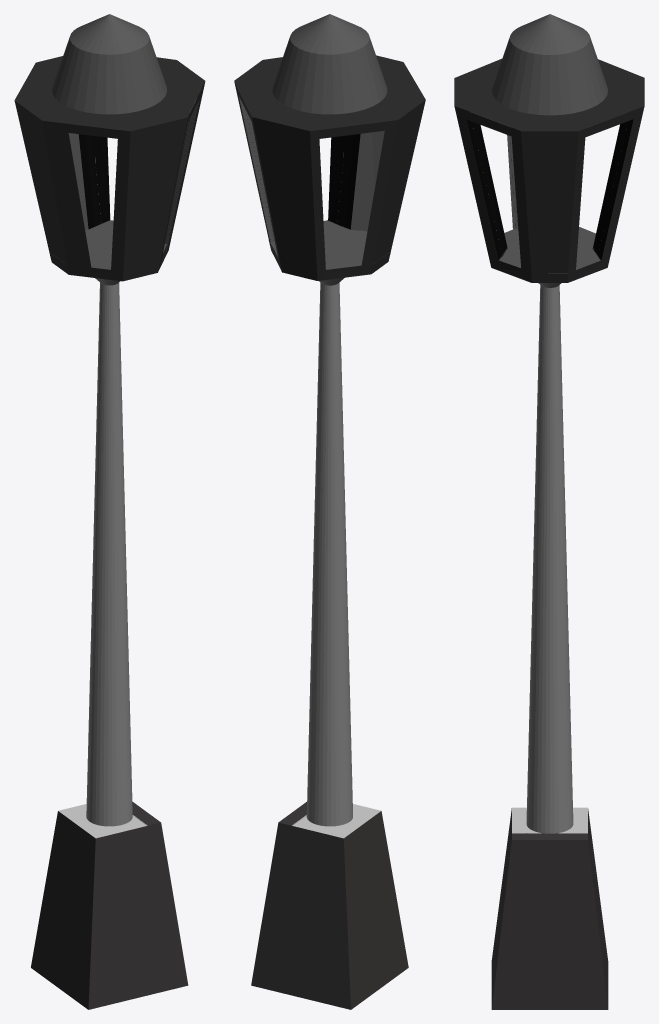
The model's file is oilLamp.dae.
3 renders of one model, left to right at view 1: azimuth 30°, elevation 25°; view 2: azimuth 150°, elevation 25°; view 3: azimuth 270°, elevation 25°, orthographic.
Visible parts, largest first — view 1: Plane, Cube, Cylinder; view 2: Plane, Cube, Cylinder; view 3: Plane, Cube, Cylinder.
Part boxes in pixels (left/top/right/bottom): Plane: left=14, top=14, right=205, bottom=285; Cube: left=31, top=801, right=188, bottom=1009; Cylinder: left=86, top=282, right=132, bottom=826; Plane: left=234, top=14, right=425, bottom=285; Cube: left=251, top=802, right=408, bottom=1009; Cylinder: left=306, top=282, right=352, bottom=826; Plane: left=454, top=14, right=644, bottom=287; Cube: left=491, top=807, right=608, bottom=1009; Cylinder: left=526, top=285, right=573, bottom=833.
Bounding box in the file's own units: 3.27 × 3.27 × 18.41.
